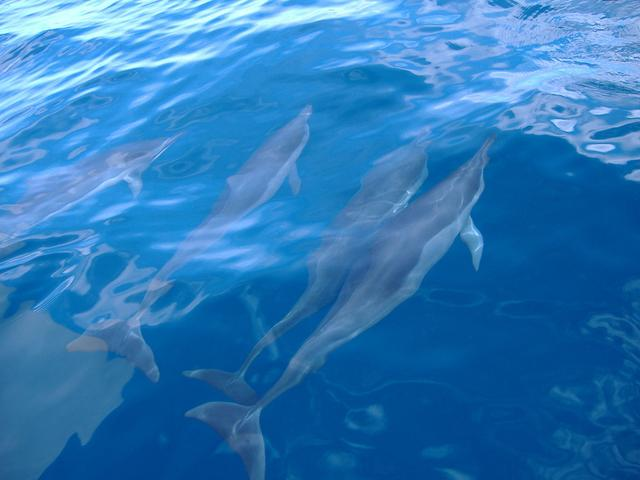dolphin: (87, 115, 344, 396)
